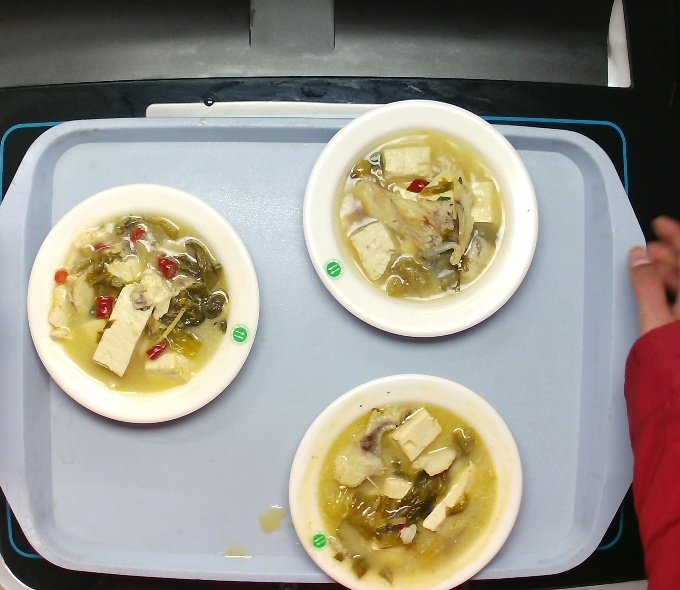wcq-SuanCaiDouFuYu: (301, 385, 508, 585), (323, 130, 520, 304), (56, 223, 223, 382)
